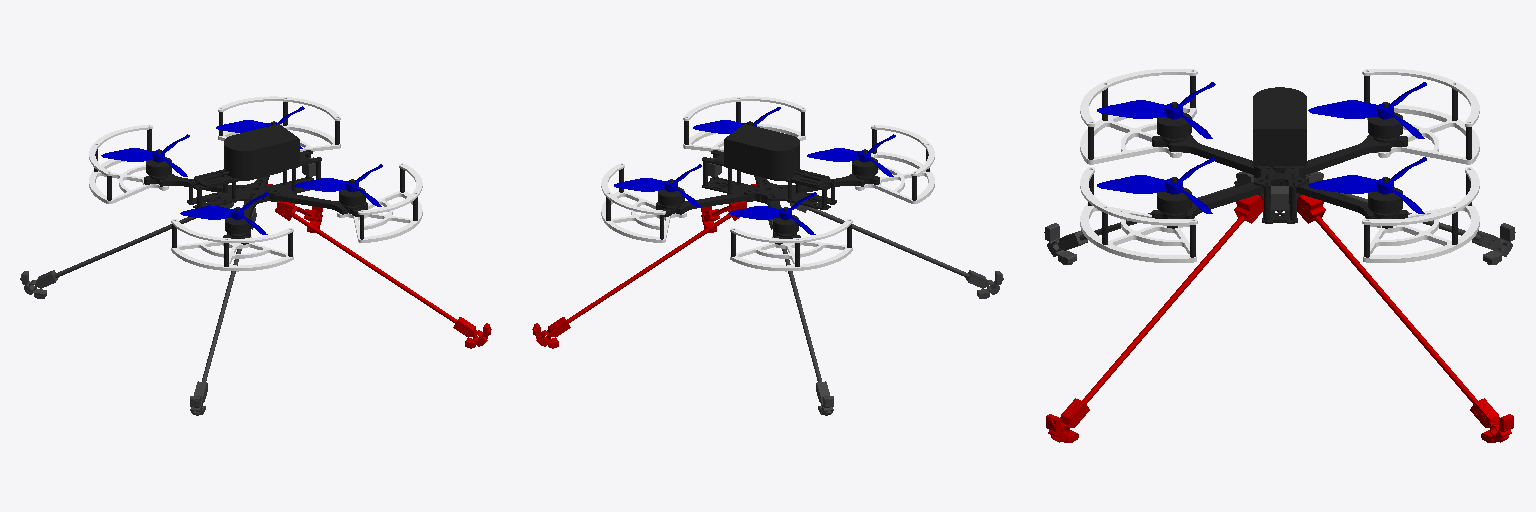
URDF robot description (Source_One):
<?xml version="1.0" ?>
<!-- =================================================================================== -->
<!-- |    This document was autogenerated by xacro from Source_One.xacro               | -->
<!-- |    EDITING THIS FILE BY HAND IS NOT RECOMMENDED                                 | -->
<!-- =================================================================================== -->
<!-- Revolute-Revolute Manipulator -->
<robot name="Source_One">
  <!-- ros_control plugin -->
  <gazebo>
    <plugin filename="libgazebo_ros_control.so" name="gazebo_ros_control">
      <robotNamespace>/Source_One</robotNamespace>
      <robotSimType>gazebo_ros_control/DefaultRobotHWSim</robotSimType>
    </plugin>
  </gazebo>
  <!-- SAR_Body -->
  <gazebo reference="SAR_Body">
    <material>Gazebo/DarkGrey</material>
  </gazebo>
  <gazebo reference="Prop_Guards">
    <material>Gazebo/White</material>
  </gazebo>
  <gazebo reference="Prop_1">
    <material>Gazebo/BlueTransparent</material>
  </gazebo>
  <gazebo reference="Prop_2">
    <material>Gazebo/BlueTransparent</material>
  </gazebo>
  <gazebo reference="Prop_3">
    <material>Gazebo/BlueTransparent</material>
  </gazebo>
  <gazebo reference="Prop_4">
    <material>Gazebo/BlueTransparent</material>
  </gazebo>
  <gazebo reference="Leg_1">
    <material>Gazebo/Red</material>
  </gazebo>
  <gazebo reference="Leg_2">
    <material>Gazebo/DarkGrey</material>
  </gazebo>
  <gazebo reference="Leg_3">
    <material>Gazebo/DarkGrey</material>
  </gazebo>
  <gazebo reference="Leg_4">
    <material>Gazebo/Red</material>
  </gazebo>
  <gazebo reference="camera_link">
    <material>Gazebo/Grey</material>
  </gazebo>
  <gazebo>
    <plugin filename="libMotor_Plugin.so" name="Motor_1_Plugin">
      <Motor_Number>1</Motor_Number>
      <Joint_Name>Prop_1_Joint</Joint_Name>
      <Link_Name>Prop_1</Link_Name>
      <Turning_Direction>ccw</Turning_Direction>
      <Visual_Slowdown>200</Visual_Slowdown>
    </plugin>
  </gazebo>
  <gazebo>
    <plugin filename="libMotor_Plugin.so" name="Motor_2_Plugin">
      <Motor_Number>2</Motor_Number>
      <Joint_Name>Prop_2_Joint</Joint_Name>
      <Link_Name>Prop_2</Link_Name>
      <Turning_Direction>cw</Turning_Direction>
      <Visual_Slowdown>200</Visual_Slowdown>
    </plugin>
  </gazebo>
  <gazebo>
    <plugin filename="libMotor_Plugin.so" name="Motor_3_Plugin">
      <Motor_Number>3</Motor_Number>
      <Joint_Name>Prop_3_Joint</Joint_Name>
      <Link_Name>Prop_3</Link_Name>
      <Turning_Direction>ccw</Turning_Direction>
      <Visual_Slowdown>200</Visual_Slowdown>
    </plugin>
  </gazebo>
  <gazebo>
    <plugin filename="libMotor_Plugin.so" name="Motor_4_Plugin">
      <Motor_Number>4</Motor_Number>
      <Joint_Name>Prop_4_Joint</Joint_Name>
      <Link_Name>Prop_4</Link_Name>
      <Turning_Direction>cw</Turning_Direction>
      <Visual_Slowdown>200</Visual_Slowdown>
    </plugin>
  </gazebo>
  <gazebo reference="Hinge_1_Joint">
    <preserveFixedJoint>true</preserveFixedJoint>
  </gazebo>
  <gazebo reference="Leg_1">
    <sensor name="Contact_Sensor" type="contact">
      <contact>
        <collision>SAR_Body_fixed_joint_lump__Leg_1_collision_1</collision>
      </contact>
      <update_rate>50</update_rate>
      <alwaysOn>true</alwaysOn>
    </sensor>
  </gazebo>
  <gazebo>
    <plugin filename="libSticky_Leg_Plugin.so" name="Leg_1_Plugin">
      <LegNumber>1</LegNumber>
      <LinkName>Leg_1</LinkName>
      <CollisionName>SAR_Body_fixed_joint_lump__Leg_1_collision_1</CollisionName>
      <JointName>Leg_1_Contact_Joint</JointName>
    </plugin>
  </gazebo>
  <gazebo>
    <plugin filename="libSAR_Update_Plugin.so" name="SAR_Update_Plugin">
    </plugin>
  </gazebo>
  <gazebo>
    <plugin filename="libgazebo_ros_p3d.so" name="Vicon_plugin">
      <alwaysOn>true</alwaysOn>
      <updateRate>1000</updateRate>
      <bodyName>SAR_Body</bodyName>
      <topicName>SAR_External/ExtPosition</topicName>
      <frameName>world</frameName>
      <xyzOffsets>0 0 0</xyzOffsets>
      <rpyOffsets>0 0 0</rpyOffsets>
      <robotNamespace>/</robotNamespace>
    </plugin>
  </gazebo>
  <gazebo>
    <plugin filename="libgazebo_ros_imu.so" name="IMU_plugin">
      <alwaysOn>true</alwaysOn>
      <updateRate>1000</updateRate>
      <bodyName>SAR_Body</bodyName>
      <topicName>SAR_Internal/IMU</topicName>
      <serviceName>imu_service</serviceName>
      <frameName>SAR_Body</frameName>
    </plugin>
  </gazebo>
  <!-- camera -->
  <gazebo reference="camera_link">
    <sensor name="camera1" type="camera">
      <update_rate>30.0</update_rate>
      <camera name="head">
        <horizontal_fov>1.3962634</horizontal_fov>
        <image>
          <width>640</width>
          <height>640</height>
          <format>R8G8B8</format>
        </image>
        <clip>
          <near>0.02</near>
          <far>100</far>
        </clip>
        <noise>
          <type>gaussian</type>
          <!-- Noise is sampled independently per pixel on each frame.
               That pixel's noise value is added to each of its color
               channels, which at that point lie in the range [0,1]. -->
          <mean>0.0</mean>
          <stddev>0.00</stddev>
        </noise>
      </camera>
      <plugin filename="libgazebo_ros_camera.so" name="camera_controller">
        <alwaysOn>true</alwaysOn>
        <updateRate>0.0</updateRate>
        <cameraName>SAR_Internal/camera</cameraName>
        <imageTopicName>image_raw</imageTopicName>
        <cameraInfoTopicName>camera_info</cameraInfoTopicName>
        <frameName>camera_link_optical</frameName>
        <!-- setting hackBaseline to anything but 0.0 will cause a misalignment
            between the gazebo sensor image and the frame it is supposed to
            be attached to -->
        <hackBaseline>0.0</hackBaseline>
        <distortionK1>0.0</distortionK1>
        <distortionK2>0.0</distortionK2>
        <distortionK3>0.0</distortionK3>
        <distortionT1>0.0</distortionT1>
        <distortionT2>0.0</distortionT2>
        <CxPrime>0</CxPrime>
        <Cx>0.0</Cx>
        <Cy>0.0</Cy>
        <focalLength>0.0</focalLength>
      </plugin>
    </sensor>
  </gazebo>
  <material name="black">
    <color rgba="0.0 0.0 0.0 1.0"/>
  </material>
  <material name="blue">
    <color rgba="0.0 0.0 0.8 1.0"/>
  </material>
  <material name="BlueTransparent">
    <color rgba="0.0 0.0 0.8 0.3"/>
  </material>
  <material name="green">
    <color rgba="0.0 0.8 0.0 1.0"/>
  </material>
  <material name="grey">
    <color rgba="0.3 0.3 0.3 1.0"/>
  </material>
  <material name="orange">
    <color rgba="1.0 0.4235294117647059 0.0392156862745098 1.0"/>
  </material>
  <material name="brown">
    <color rgba="0.8705882352941177 0.8117647058823529 0.7647058823529411 1.0"/>
  </material>
  <material name="red">
    <color rgba="0.8 0.0 0.0 1.0"/>
  </material>
  <material name="white">
    <color rgba="1.0 1.0 1.0 1.0"/>
  </material>
  <material name="DarkGrey">
    <color rgba="0.175 0.175 0.175 1.0"/>
  </material>
  <!-- Base Link -->
  <link name="SAR_Body">
    <collision name="Body_Collision">
      <origin rpy="0 0 0" xyz="0 0 20.5e-3"/>
      <geometry>
        <!-- <cylinder radius="77.0e-3" length="41.0e-3"/> -->
        <box size="300e-3 350e-3 41.0e-3"/>
      </geometry>
    </collision>
    <visual>
      <origin rpy="0 0 0" xyz="0 0 0"/>
      <geometry>
        <mesh filename="package://sar_gazebo/models/Source_One/meshes/SO_V5_Base_Assembly.STL"/>
      </geometry>
      <material name="DarkGrey"/>
    </visual>
    <visual>
      <origin rpy="0 0 0" xyz="0 0 0"/>
      <geometry>
        <mesh filename="package://sar_gazebo/models/Source_One/meshes/SO_V5_Prop_Guard_Standoffs.STL"/>
      </geometry>
      <material name="DarkGrey"/>
    </visual>
    <inertial>
      <origin rpy="0 0 0" xyz="0 0 0"/>
      <mass value="693.0e-3"/>
      <inertia ixx="3.17e-3" ixy="0.0" ixz="0.0" iyy="2.71e-3" iyz="0.0" izz="5.27e-3"/>
    </inertial>
  </link>
  <link name="Prop_Guards">
    <visual>
      <origin rpy="0 0 0" xyz="0 0 0"/>
      <geometry>
        <mesh filename="package://sar_gazebo/models/Source_One/meshes/SO_V5_Prop_Guards.STL"/>
      </geometry>
      <material name="white"/>
    </visual>
    <inertial>
      <origin rpy="0 0 0" xyz="0 0 0"/>
      <mass value="1.0e-5"/>
      <inertia ixx="1.0e-6" ixy="0.0" ixz="0.0" iyy="1.0e-6" iyz="0.0" izz="1.0e-6"/>
    </inertial>
  </link>
  <joint name="Prop_Guard_Joint" type="fixed">
    <origin rpy="0 0 0" xyz="0 0 0"/>
    <parent link="SAR_Body"/>
    <child link="Prop_Guards"/>
  </joint>
  <joint name="Prop_1_Joint" type="continuous">
    <parent link="SAR_Body"/>
    <child link="Prop_1"/>
    <origin rpy="0 0 0" xyz="0.0726 -0.0866 0.028"/>
    <axis xyz="0 0 1"/>
  </joint>
  <link name="Prop_1">
    <visual>
      <origin rpy="0 0 0" xyz="0 0 0"/>
      <geometry>
        <mesh filename="package://sar_gazebo/models/Source_One/meshes/SO_V5_Propeller.STL"/>
      </geometry>
      <material name="BlueTransparent"/>
    </visual>
    <inertial>
      <origin rpy="0 0 0" xyz="0 0 0"/>
      <mass value="1.0e-5"/>
      <inertia ixx="1.0e-6" ixy="0.0" ixz="0.0" iyy="1.0e-6" iyz="0.0" izz="1.0e-6"/>
    </inertial>
  </link>
  <joint name="Prop_2_Joint" type="continuous">
    <parent link="SAR_Body"/>
    <child link="Prop_2"/>
    <origin rpy="0 0 0" xyz="-0.0726 -0.0866 0.028"/>
    <axis xyz="0 0 1"/>
  </joint>
  <link name="Prop_2">
    <visual>
      <origin rpy="0 0 0" xyz="0 0 0"/>
      <geometry>
        <mesh filename="package://sar_gazebo/models/Source_One/meshes/SO_V5_Propeller.STL"/>
      </geometry>
      <material name="BlueTransparent"/>
    </visual>
    <inertial>
      <origin rpy="0 0 0" xyz="0 0 0"/>
      <mass value="1.0e-5"/>
      <inertia ixx="1.0e-6" ixy="0.0" ixz="0.0" iyy="1.0e-6" iyz="0.0" izz="1.0e-6"/>
    </inertial>
  </link>
  <joint name="Prop_3_Joint" type="continuous">
    <parent link="SAR_Body"/>
    <child link="Prop_3"/>
    <origin rpy="0 0 0" xyz="-0.0726 0.0866 0.028"/>
    <axis xyz="0 0 1"/>
  </joint>
  <link name="Prop_3">
    <visual>
      <origin rpy="0 0 0" xyz="0 0 0"/>
      <geometry>
        <mesh filename="package://sar_gazebo/models/Source_One/meshes/SO_V5_Propeller.STL"/>
      </geometry>
      <material name="BlueTransparent"/>
    </visual>
    <inertial>
      <origin rpy="0 0 0" xyz="0 0 0"/>
      <mass value="1.0e-5"/>
      <inertia ixx="1.0e-6" ixy="0.0" ixz="0.0" iyy="1.0e-6" iyz="0.0" izz="1.0e-6"/>
    </inertial>
  </link>
  <joint name="Prop_4_Joint" type="continuous">
    <parent link="SAR_Body"/>
    <child link="Prop_4"/>
    <origin rpy="0 0 0" xyz="0.0726 0.0866 0.028"/>
    <axis xyz="0 0 1"/>
  </joint>
  <link name="Prop_4">
    <visual>
      <origin rpy="0 0 0" xyz="0 0 0"/>
      <geometry>
        <mesh filename="package://sar_gazebo/models/Source_One/meshes/SO_V5_Propeller.STL"/>
      </geometry>
      <material name="BlueTransparent"/>
    </visual>
    <inertial>
      <origin rpy="0 0 0" xyz="0 0 0"/>
      <mass value="1.0e-5"/>
      <inertia ixx="1.0e-6" ixy="0.0" ixz="0.0" iyy="1.0e-6" iyz="0.0" izz="1.0e-6"/>
    </inertial>
  </link>
  <link name="Leg_1">
    <visual>
      <geometry>
        <mesh filename="package://sar_gazebo/models/Source_One/meshes/Leg_Assembly_60_deg--250mm.STL"/>
      </geometry>
      <material name="red"/>
    </visual>
    <inertial>
      <origin rpy="0 0 0" xyz="0 0 0"/>
      <mass value="2.6e-2"/>
      <inertia ixx="1.53e-6" ixy="0.0" ixz="0.0" iyy="3.27e-4" iyz="0.0" izz="3.28e-4"/>
    </inertial>
    <collision>
      <origin rpy="0 0 0" xyz="259.6e-3 0 -2.3e-3"/>
      <geometry>
        <sphere radius="13.9e-3"/>
      </geometry>
    </collision>
  </link>
  <joint name="Hinge_1_Joint" type="fixed">
    <origin rpy="0 0.524 -0.785" xyz="0.0185 -0.0185 -0.004"/>
    <parent link="SAR_Body"/>
    <child link="Leg_1"/>
  </joint>
  <link name="Leg_2">
    <visual>
      <geometry>
        <mesh filename="package://sar_gazebo/models/Source_One/meshes/Leg_Assembly_60_deg--250mm.STL"/>
      </geometry>
      <material name="grey"/>
    </visual>
    <inertial>
      <origin rpy="0 0 0" xyz="0 0 0"/>
      <mass value="2.6e-2"/>
      <inertia ixx="1.53e-6" ixy="0.0" ixz="0.0" iyy="3.27e-4" iyz="0.0" izz="3.28e-4"/>
    </inertial>
    <collision>
      <origin rpy="0 0 0" xyz="259.6e-3 0 -2.3e-3"/>
      <geometry>
        <sphere radius="13.9e-3"/>
      </geometry>
    </collision>
  </link>
  <joint name="Hinge_2_Joint" type="fixed">
    <origin rpy="0 0.524 -2.35" xyz="-0.0185 -0.0185 -0.004"/>
    <parent link="SAR_Body"/>
    <child link="Leg_2"/>
  </joint>
  <link name="Leg_3">
    <visual>
      <geometry>
        <mesh filename="package://sar_gazebo/models/Source_One/meshes/Leg_Assembly_60_deg--250mm.STL"/>
      </geometry>
      <material name="grey"/>
    </visual>
    <inertial>
      <origin rpy="0 0 0" xyz="0 0 0"/>
      <mass value="2.6e-2"/>
      <inertia ixx="1.53e-6" ixy="0.0" ixz="0.0" iyy="3.27e-4" iyz="0.0" izz="3.28e-4"/>
    </inertial>
    <collision>
      <origin rpy="0 0 0" xyz="259.6e-3 0 -2.3e-3"/>
      <geometry>
        <sphere radius="13.9e-3"/>
      </geometry>
    </collision>
  </link>
  <joint name="Hinge_3_Joint" type="fixed">
    <origin rpy="0 0.524 2.35" xyz="-0.0185 0.0185 -0.004"/>
    <parent link="SAR_Body"/>
    <child link="Leg_3"/>
  </joint>
  <link name="Leg_4">
    <visual>
      <geometry>
        <mesh filename="package://sar_gazebo/models/Source_One/meshes/Leg_Assembly_60_deg--250mm.STL"/>
      </geometry>
      <material name="red"/>
    </visual>
    <inertial>
      <origin rpy="0 0 0" xyz="0 0 0"/>
      <mass value="2.6e-2"/>
      <inertia ixx="1.53e-6" ixy="0.0" ixz="0.0" iyy="3.27e-4" iyz="0.0" izz="3.28e-4"/>
    </inertial>
    <collision>
      <origin rpy="0 0 0" xyz="259.6e-3 0 -2.3e-3"/>
      <geometry>
        <sphere radius="13.9e-3"/>
      </geometry>
    </collision>
  </link>
  <joint name="Hinge_4_Joint" type="fixed">
    <origin rpy="0 0.524 0.785" xyz="0.0185 0.0185 -0.004"/>
    <parent link="SAR_Body"/>
    <child link="Leg_4"/>
  </joint>
  <!-- Camera -->
  <link name="camera_link">
    <visual>
      <origin rpy="0 0 0" xyz="0 0 0"/>
      <geometry>
        <box size="0.015 0.015 0.015"/>
      </geometry>
      <material name="grey"/>
    </visual>
    <inertial>
      <mass value="1e-5"/>
      <origin rpy="0 0 0" xyz="0 0 0"/>
      <inertia ixx="1e-6" ixy="0" ixz="0" iyy="1e-6" iyz="0" izz="1e-6"/>
    </inertial>
  </link>
  <joint name="camera_joint" type="fixed">
    <origin rpy="0 0 0" xyz="0.07 0 0.02"/>
    <parent link="SAR_Body"/>
    <child link="camera_link"/>
  </joint>
  <!-- generate an optical frame http://www.ros.org/reps/rep-0103.html#suffix-frames
      so that ros and opencv can operate on the camera frame correctly -->
  <joint name="camera_optical_joint" type="fixed">
    <!-- these values have to be these values otherwise the gazebo camera image
        won't be aligned properly with the frame it is supposedly originating from -->
    <origin rpy="-1.5707963267948966 0 -1.5707963267948966" xyz="0 0 0"/>
    <parent link="camera_link"/>
    <child link="camera_link_optical"/>
  </joint>
  <link name="camera_link_optical">
  </link>
  <gazebo>
    <plugin filename="libgazebo_ros_joint_state_publisher.so" name="joint_state_publisher">
      <jointName>Prop_1_Joint,Prop_2_Joint,Prop_3_Joint,Prop_4_Joint</jointName>
      <updateRate>100.0</updateRate>
      <alwaysOn>true</alwaysOn>
    </plugin>
  </gazebo>
  <joint name="velodyne_base_mount_joint" type="fixed">
    <origin rpy="0 0 0" xyz="0.025 0 0.07"/>
    <parent link="SAR_Body"/>
    <child link="velodyne_base_link"/>
  </joint>
  <link name="velodyne_base_link">
    <inertial>
      <mass value="1e-5"/>
      <origin rpy="0 0 0" xyz="0 0 0"/>
      <inertia ixx="1e-6" ixy="0" ixz="0" iyy="1e-6" iyz="0" izz="1e-6"/>
    </inertial>
    <visual>
      <geometry>
        <mesh filename="package://velodyne_description/meshes/VLP16_base_1.dae" scale="0.35 0.35 0.35"/>
      </geometry>
    </visual>
    <visual>
      <geometry>
        <mesh filename="package://velodyne_description/meshes/VLP16_base_2.dae" scale="0.35 0.35 0.35"/>
      </geometry>
    </visual>
  </link>
  <joint name="velodyne_base_scan_joint" type="fixed">
    <origin rpy="0 0 0" xyz="0 0 0.0377"/>
    <parent link="velodyne_base_link"/>
    <child link="velodyne"/>
  </joint>
  <link name="velodyne">
    <inertial>
      <mass value="0.01"/>
      <origin xyz="0 0 0"/>
      <inertia ixx="1e-7" ixy="0" ixz="0" iyy="1e-7" iyz="0" izz="1e-7"/>
    </inertial>
    <visual>
      <origin xyz="0 0 -0.0377"/>
      <geometry>
        <mesh filename="package://velodyne_description/meshes/VLP16_scan.dae" scale="0.35 0.35 0.35"/>
      </geometry>
    </visual>
  </link>
  <!-- Gazebo requires the velodyne_gazebo_plugins package -->
  <gazebo reference="velodyne">
    <sensor name="velodyne-VLP16" type="gpu_ray">
      <pose>0 0 0 0 0 0</pose>
      <visualize>false</visualize>
      <update_rate>30</update_rate>
      <ray>
        <scan>
          <horizontal>
            <samples>1875</samples>
            <resolution>1</resolution>
            <min_angle>-3.141592653589793</min_angle>
            <max_angle>3.141592653589793</max_angle>
          </horizontal>
          <vertical>
            <samples>32</samples>
            <resolution>1</resolution>
            <min_angle>-0.2617993877991494</min_angle>
            <max_angle> 0.5235987755982988</max_angle>
          </vertical>
        </scan>
        <range>
          <min>0.1</min>
          <max>131.0</max>
          <resolution>0.001</resolution>
        </range>
        <noise>
          <type>gaussian</type>
          <mean>0.0</mean>
          <stddev>0.0</stddev>
        </noise>
      </ray>
      <plugin filename="libgazebo_ros_velodyne_gpu_laser.so" name="gazebo_ros_laser_controller">
        <topicName>/velodyne_points</topicName>
        <frameName>velodyne</frameName>
        <min_range>0.1</min_range>
        <max_range>130.0</max_range>
        <gaussianNoise>0.0</gaussianNoise>
      </plugin>
    </sensor>
  </gazebo>
</robot>

--- What the picture shows (computed from the rendered views, not written in the file) ---
The picture shows the robot from 3 angles, left to right: view 1: azimuth 30°, elevation 25°; view 2: azimuth 150°, elevation 25°; view 3: azimuth 270°, elevation 25°; orthographic projection.
Robot: Source_One — 14 links, 13 joints (4 continuous, 9 fixed); root link SAR_Body; default pose: every joint at zero.
Visible links, largest first — view 1: SAR_Body, Prop_Guards, Leg_1, Leg_3, Leg_2, Prop_2, Prop_1, Prop_3, Prop_4; view 2: SAR_Body, Prop_Guards, Leg_4, Leg_2, Leg_3, Prop_3, Prop_4, Prop_2, Prop_1; view 3: SAR_Body, Prop_Guards, Leg_1, Leg_4, Prop_1, Prop_2, Prop_3, Prop_4, Leg_2, Leg_3.
Boxes of the visible links, bbox=[...] form: SAR_Body: bbox=[94, 102, 417, 266]; Prop_Guards: bbox=[89, 96, 422, 271]; Leg_1: bbox=[275, 201, 491, 348]; Leg_3: bbox=[20, 199, 235, 298]; Leg_2: bbox=[190, 207, 256, 415]; Prop_2: bbox=[180, 192, 268, 234]; Prop_1: bbox=[295, 164, 382, 206]; Prop_3: bbox=[101, 134, 189, 176]; Prop_4: bbox=[216, 106, 304, 148]; SAR_Body: bbox=[606, 102, 929, 266]; Prop_Guards: bbox=[601, 96, 934, 271]; Leg_4: bbox=[532, 201, 746, 348]; Leg_2: bbox=[788, 199, 1003, 298]; Leg_3: bbox=[768, 207, 833, 415]; Prop_3: bbox=[728, 192, 816, 234]; Prop_4: bbox=[614, 164, 701, 206]; Prop_2: bbox=[807, 134, 895, 176]; Prop_1: bbox=[693, 107, 780, 133]; SAR_Body: bbox=[1088, 76, 1471, 257]; Prop_Guards: bbox=[1080, 69, 1479, 262]; Leg_1: bbox=[1046, 195, 1262, 442]; Leg_4: bbox=[1297, 195, 1513, 442]; Prop_1: bbox=[1097, 157, 1215, 213]; Prop_2: bbox=[1097, 82, 1215, 138]; Prop_3: bbox=[1308, 82, 1426, 138]; Prop_4: bbox=[1308, 157, 1426, 213]; Leg_2: bbox=[1044, 171, 1255, 264]; Leg_3: bbox=[1304, 171, 1515, 264].
Bounding box of the posed robot: 0.3825 × 0.3855 × 0.2215 m (x, y, z).
Meshes: 8 distinct files referenced, 11 mesh visuals loaded (5 binary STL); not drawn: 3 (reference not matched to a file when rendering).
